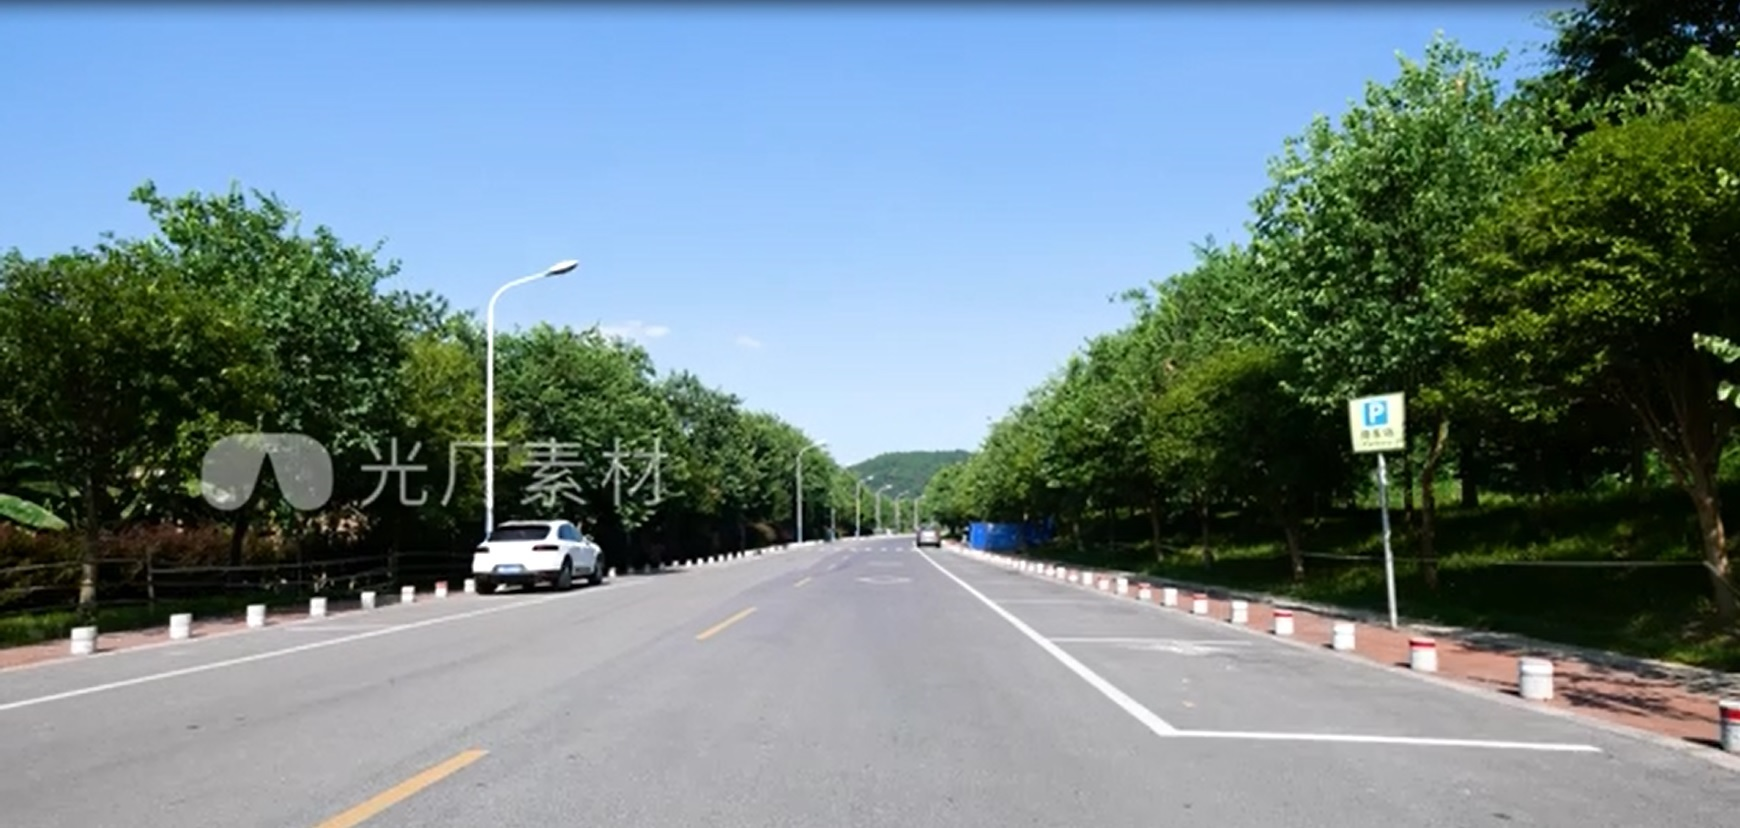slot_nocar: (1032, 620, 1631, 769), (6, 604, 418, 710), (274, 562, 556, 646), (975, 589, 1314, 659), (955, 566, 1182, 616), (914, 541, 1022, 572)
